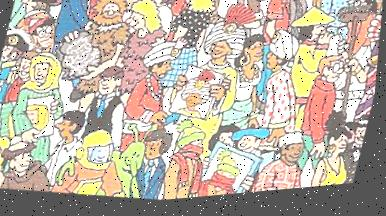waldo: (18, 11, 58, 54)
